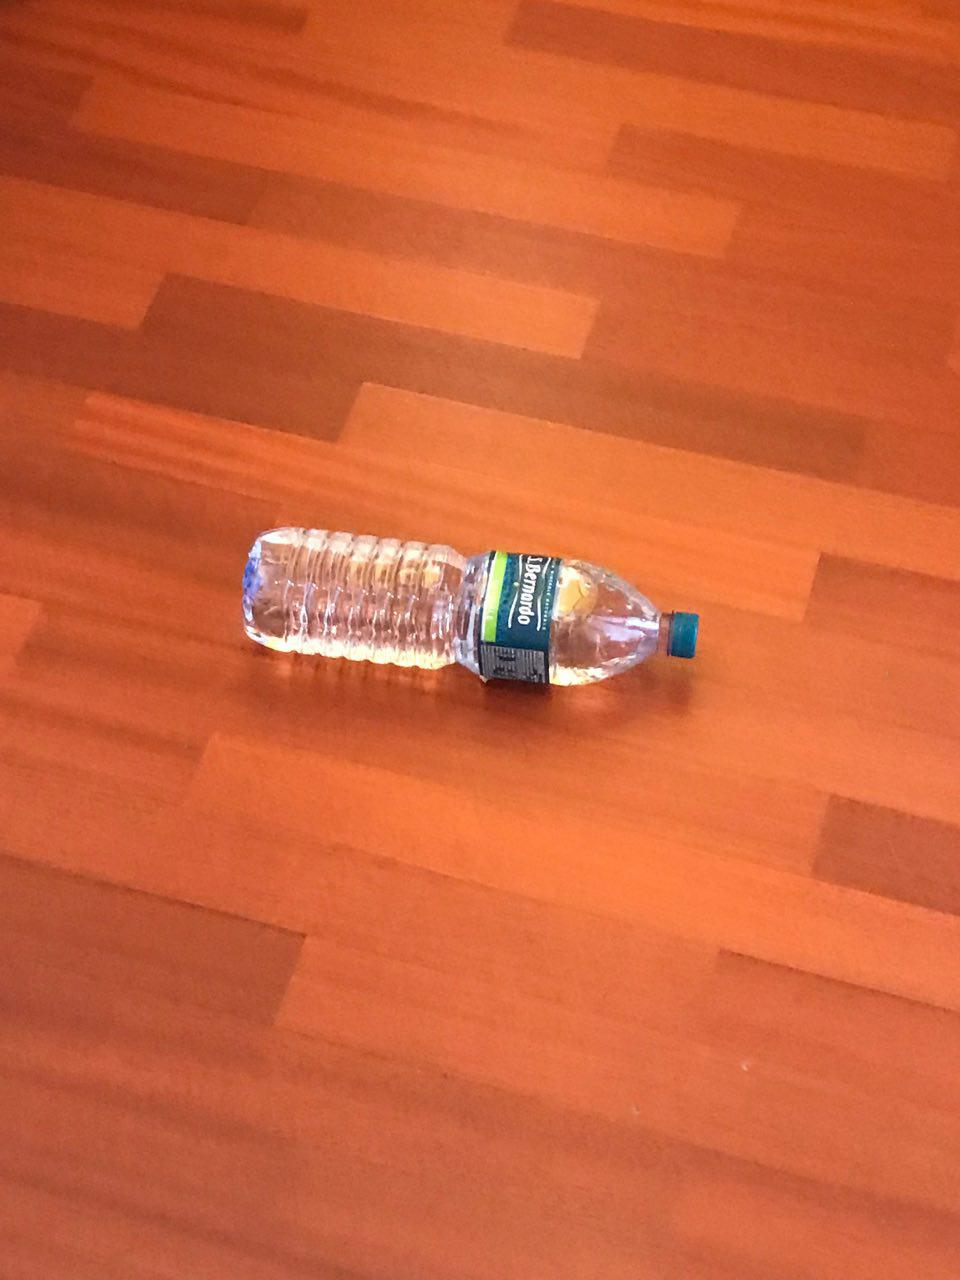san_bernardo: (240, 523, 701, 688)
